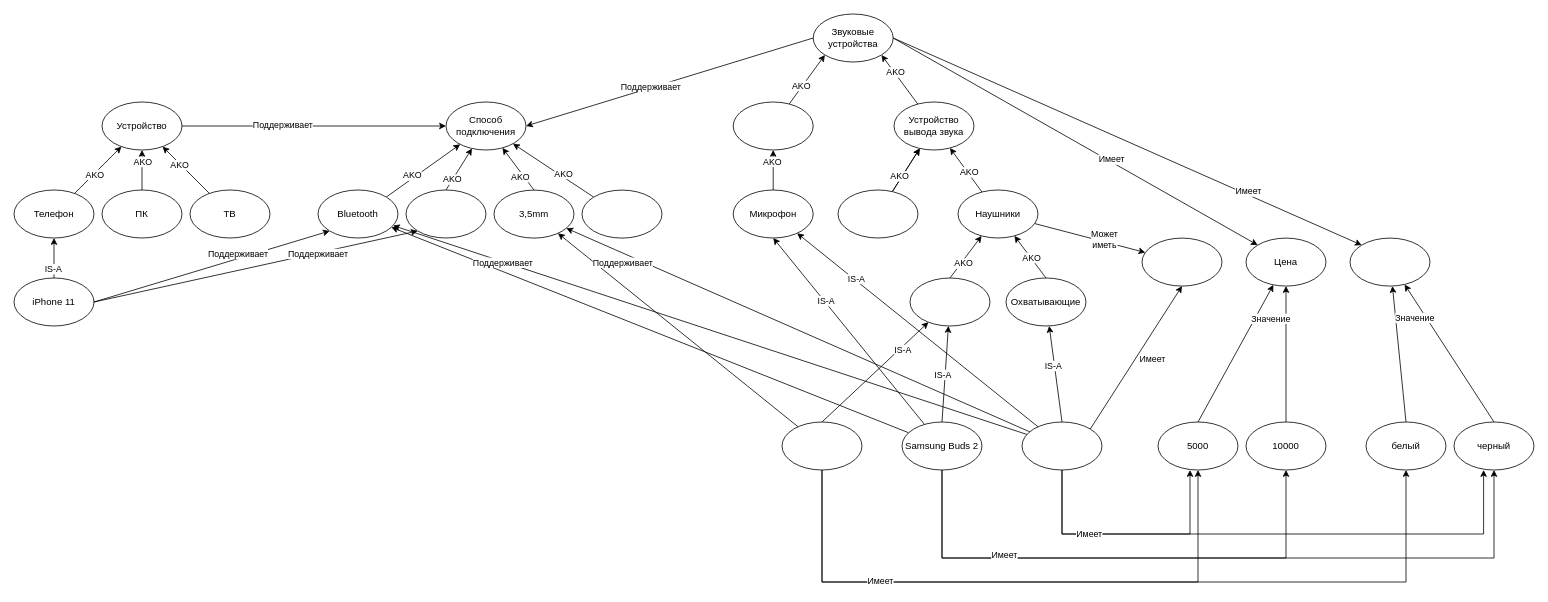
This 1548x602 diagram has some shape labels left out. Here are the shapes that lost their labels. From the top down, the centre of each, then its label:
At [772,125]: "Устройство записи".
At [445,213]: "Lightning".
At [621,213]: "USB".
At [877,213]: "Колонки".
At [1181,261]: "Шумоподавление".
At [1389,261]: "Цвет".
At [949,301]: "Затычки".
At [821,445]: "Sennheiser CX 300S".
At [1061,445]: "SVEN AP-B900MV".
